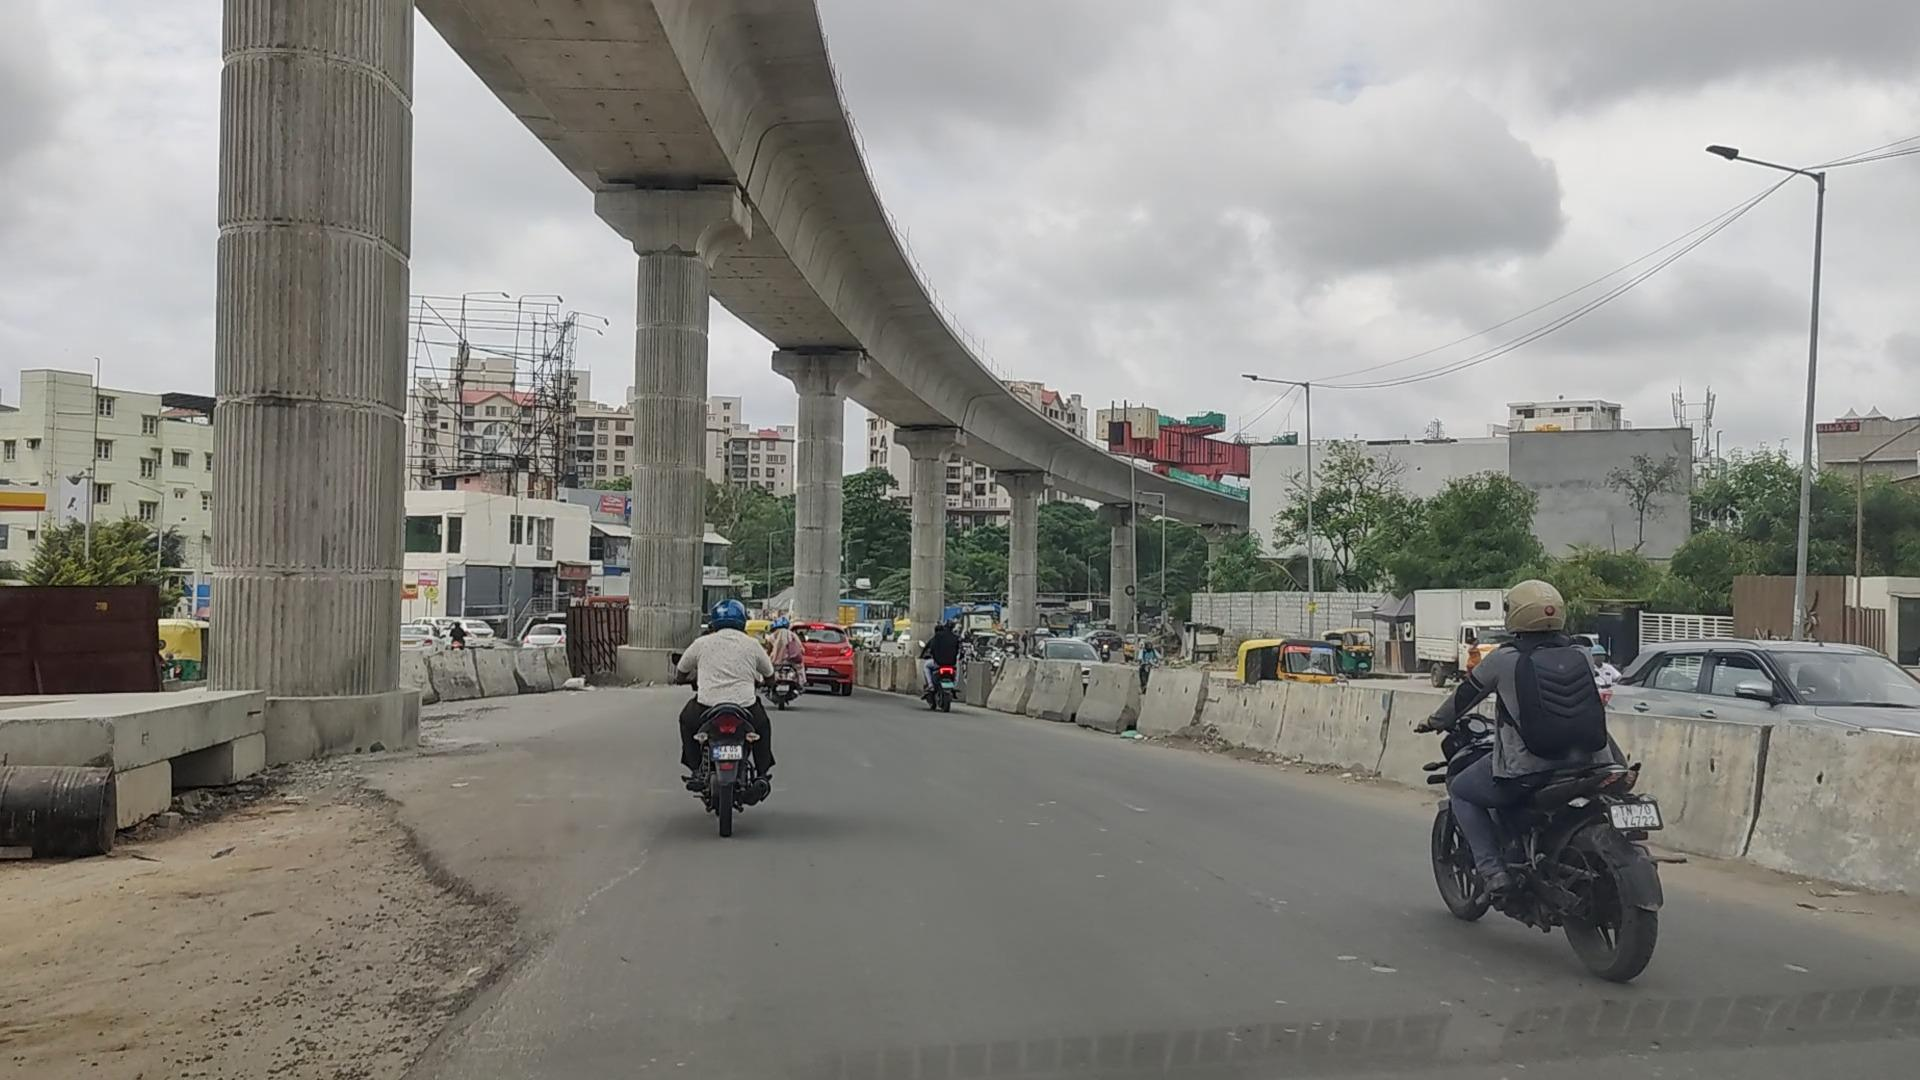LMV: (1420, 588, 1668, 975), (678, 600, 779, 843), (909, 620, 967, 715)
RoadDamages: (320, 777, 533, 1080)
UnsurfacedRoad: (0, 836, 318, 1076)
